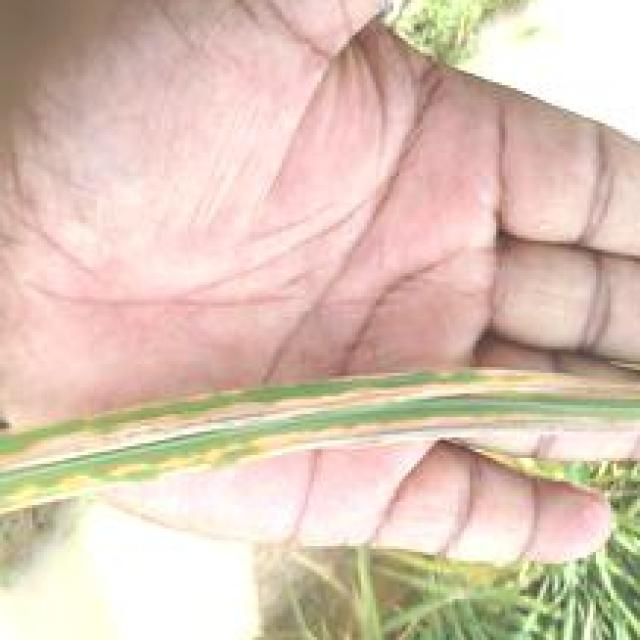Bacterial_Leaf_Blight: (14, 370, 640, 526)
